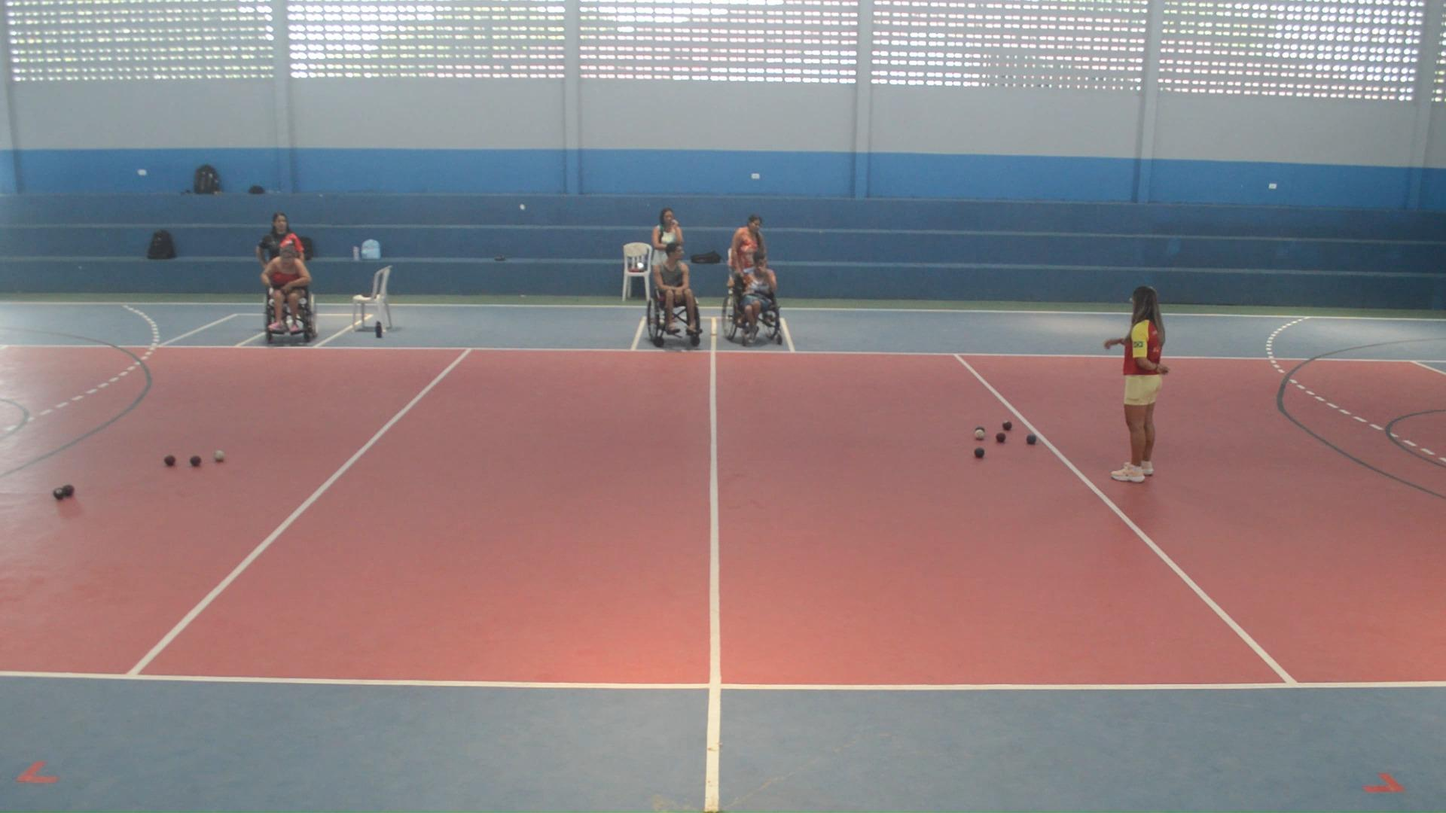blue_ball: (974, 447, 984, 458), (1027, 434, 1036, 444), (975, 426, 985, 432)
red_ball: (996, 432, 1006, 443), (1002, 420, 1012, 430)
white_ball: (975, 430, 984, 439)
